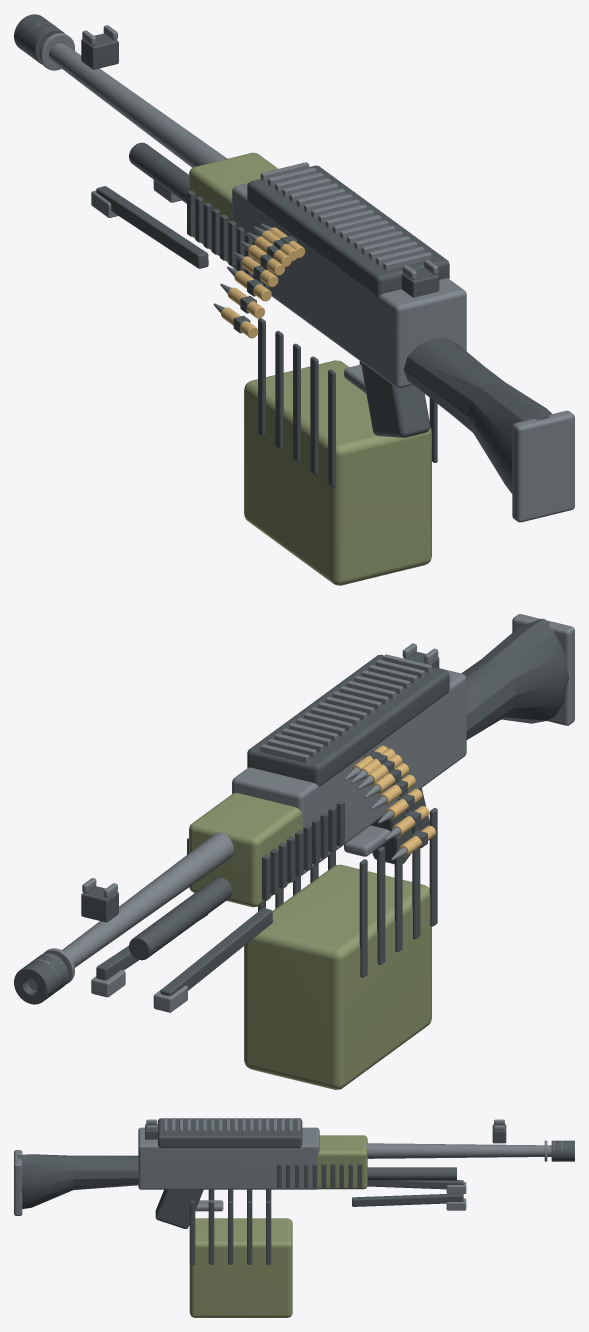
3 renders of one model, top to bottom at view 1: azimuth 30°, elevation 25°; view 2: azimuth 150°, elevation 25°; view 3: azimuth 270°, elevation 25°, orthographic. The views are drawn at different scales.
Visible parts, largest first — view 1: Steel, Dark, OliveMagazine, DarkMagazine, Brass, Olive; view 2: OliveMagazine, Dark, Steel, Olive, DarkMagazine, Brass; view 3: Dark, Steel, OliveMagazine, DarkMagazine, Olive.
Boxes of the visible parts, x1,y1,x2,y2 form: Steel: [25, 22, 574, 522]; Dark: [14, 14, 551, 493]; OliveMagazine: [244, 360, 431, 585]; DarkMagazine: [258, 318, 437, 487]; Brass: [221, 227, 305, 338]; Olive: [189, 152, 278, 262]; OliveMagazine: [244, 864, 431, 1089]; Dark: [14, 618, 568, 1004]; Steel: [28, 614, 574, 1012]; Olive: [189, 793, 302, 907]; DarkMagazine: [258, 808, 437, 977]; Brass: [352, 745, 435, 856]; Dark: [17, 1118, 574, 1228]; Steel: [14, 1118, 562, 1215]; OliveMagazine: [189, 1218, 292, 1317]; DarkMagazine: [189, 1189, 271, 1264]; Olive: [317, 1135, 367, 1189].
Bounding box in the file's own units: 0.165 × 0.362 × 1.
